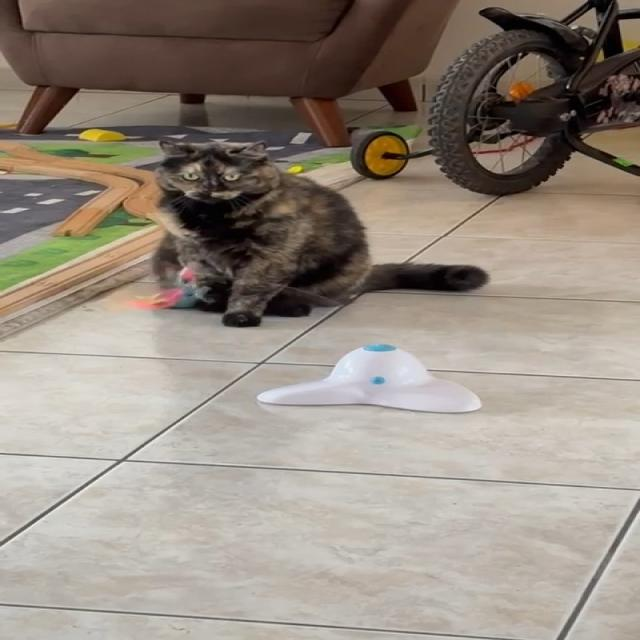authorized: (150, 138, 490, 328)
